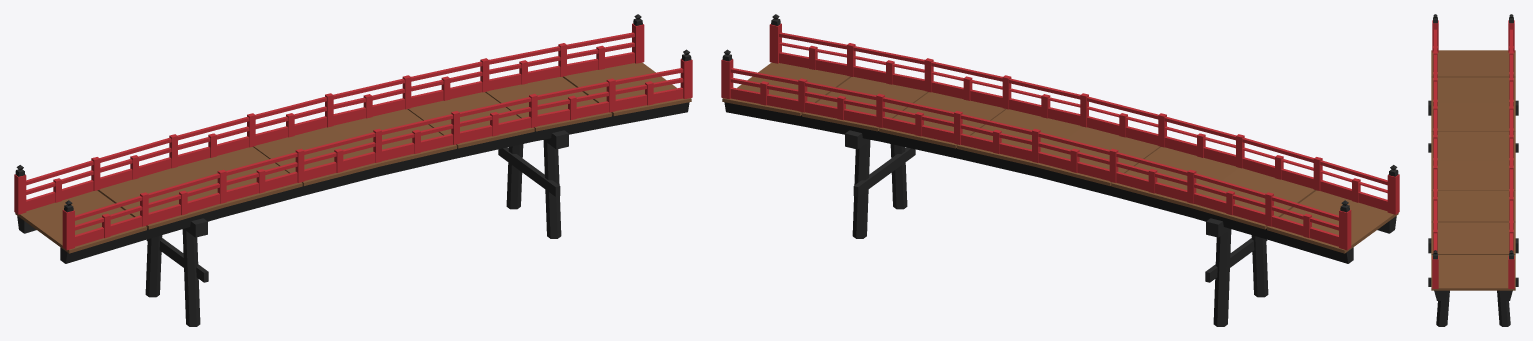
File: bridge-japan.glb
3 renders of one model, left to right at view 1: azimuth 30°, elevation 25°; view 2: azimuth 150°, elevation 25°; view 3: azimuth 270°, elevation 25°, orthographic. The views are drawn at different scales.
Visible parts, largest first — view 1: bridge-japan; view 2: bridge-japan; view 3: bridge-japan.
Part boxes in pixels (x1,y1,x2,y2): bridge-japan: (14, 14, 692, 326); bridge-japan: (721, 14, 1399, 326); bridge-japan: (1428, 14, 1518, 326).
Size of the model in its own units: 20.12 by 4.86 by 3.2.
Materials: 1 (1 with a texture image).
